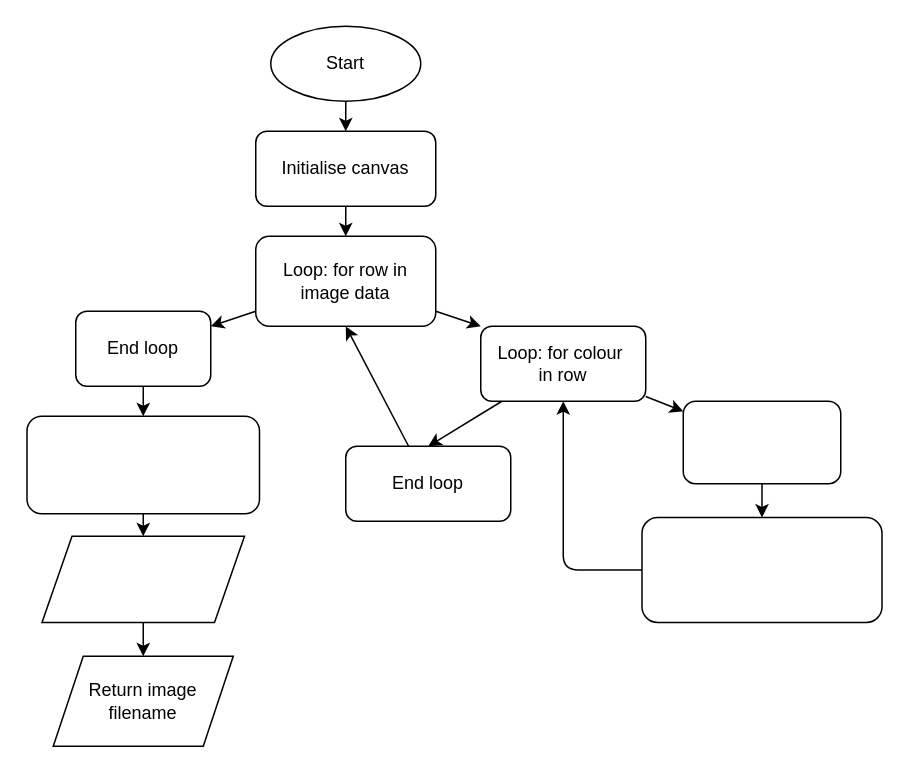
This 908x773 diagram has some shape labels left out. Each missing label, with the centre of its shape:
Create write stream to output image directory: point (143, 464)
Fill rectangle on canvas the size of the pixel * pixelSize: point (761, 569)
Pipe output to image directory: point (142, 578)
Set fill colour to colour: point (761, 442)
